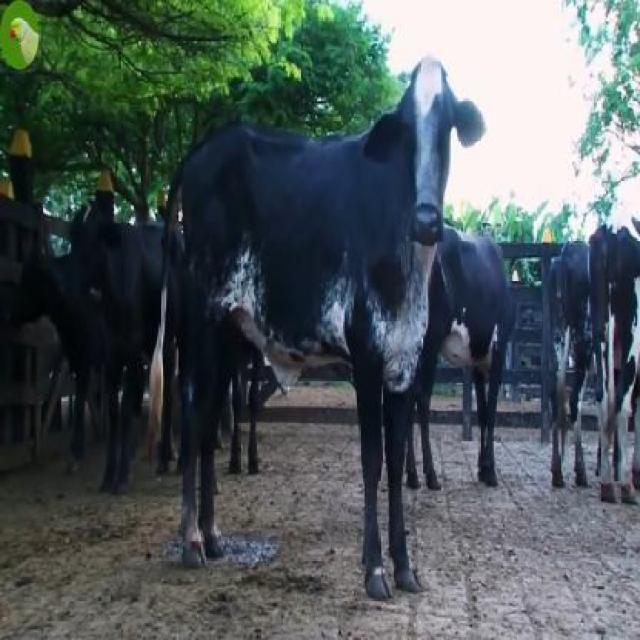Cow: (160, 52, 482, 576)
